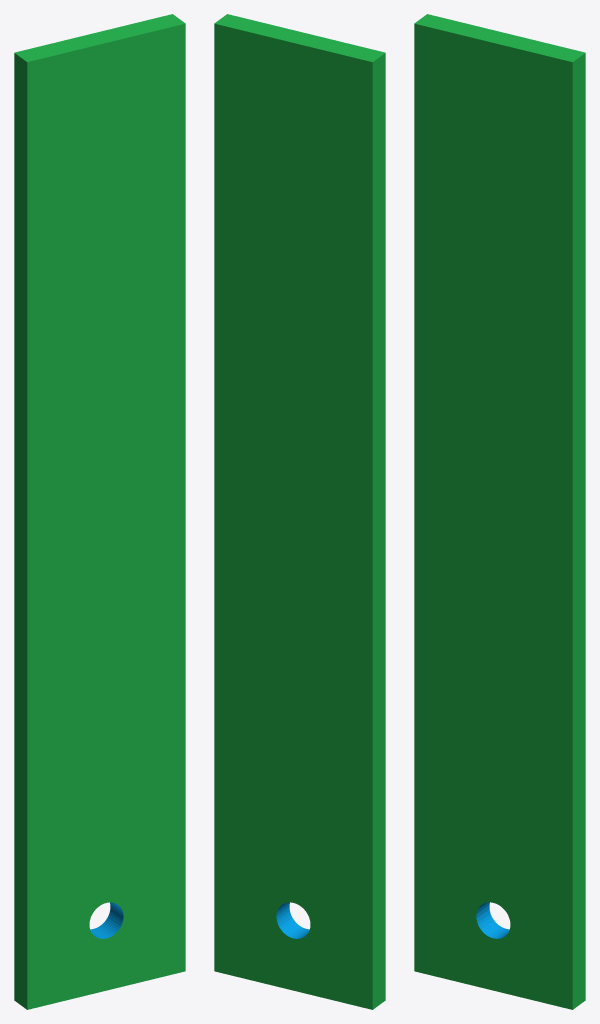
Rendered from mesa.obj.
3 views of the same model, side by side, from view 1: azimuth 30°, elevation 25°; view 2: azimuth 150°, elevation 25°; view 3: azimuth 330°, elevation 25° (orthographic).
Visible parts, largest first — view 1: Object.1; view 2: Object.1; view 3: Object.1.
Boxes of the visible parts, left/top/right/bottom form: Object.1: left=14, top=14, right=185, bottom=1009; Object.1: left=214, top=14, right=385, bottom=1009; Object.1: left=414, top=14, right=585, bottom=1009.
Bounding box in the file's own units: 70 × 400 × 10.
